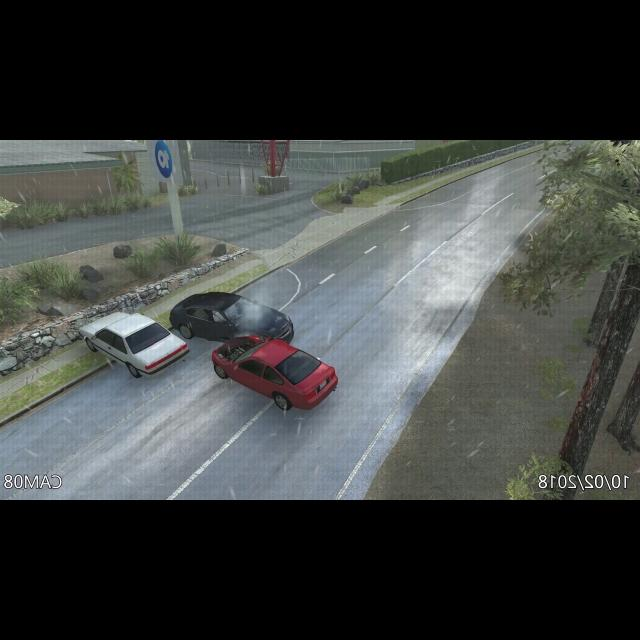accident: (168, 291, 342, 412)
